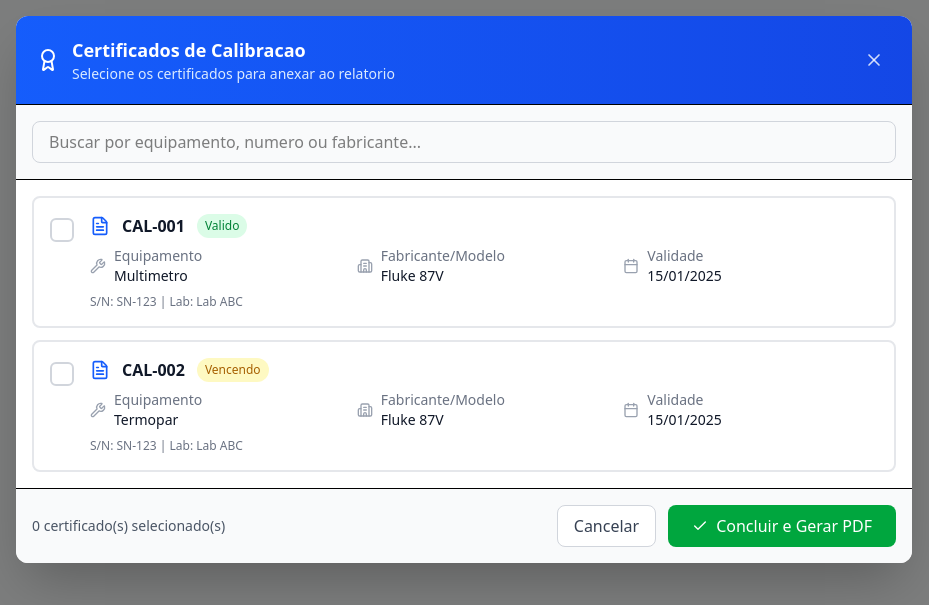
Test: CertificateSelectionModal › toggles certificate selection on click
Expected: the text "0 certificado(s) selecionado(s)" is shown, [32,516,225,536]
// Click the first certificate card to select it
Click the text "CAL-001" at (153, 226), box [122,214,185,238]
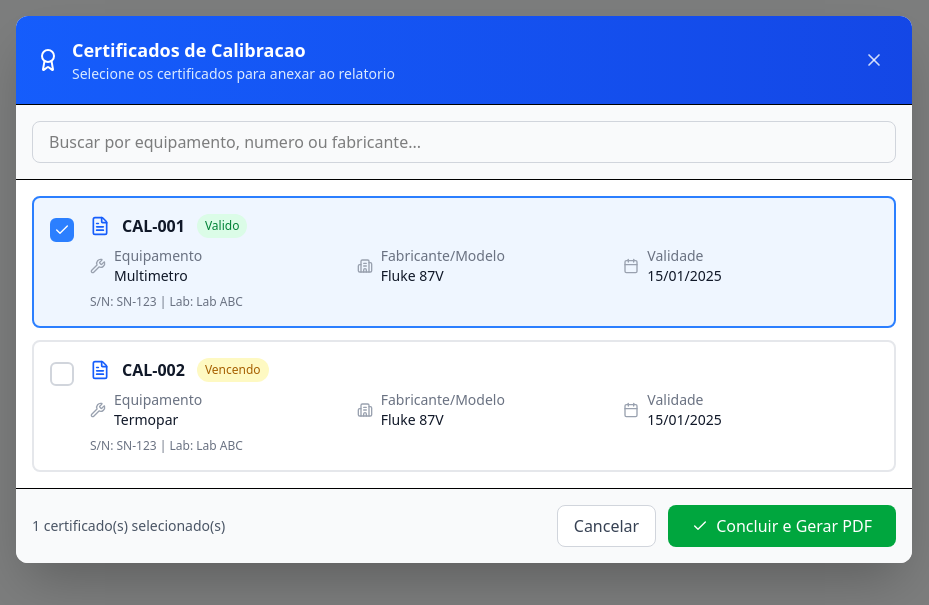
Expected: the text "1 certificado(s) selecionado(s)" is shown, [32,516,225,536]
// Click again to deselect
Click the text "CAL-001" at (153, 226), box [122,214,185,238]
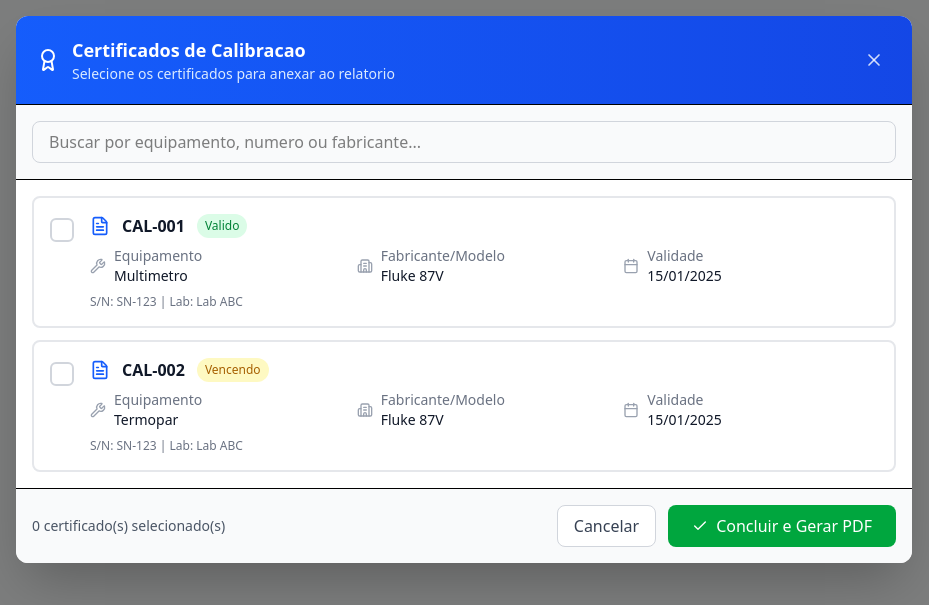
Expected: the text "0 certificado(s) selecionado(s)" is shown, [32,516,225,536]
